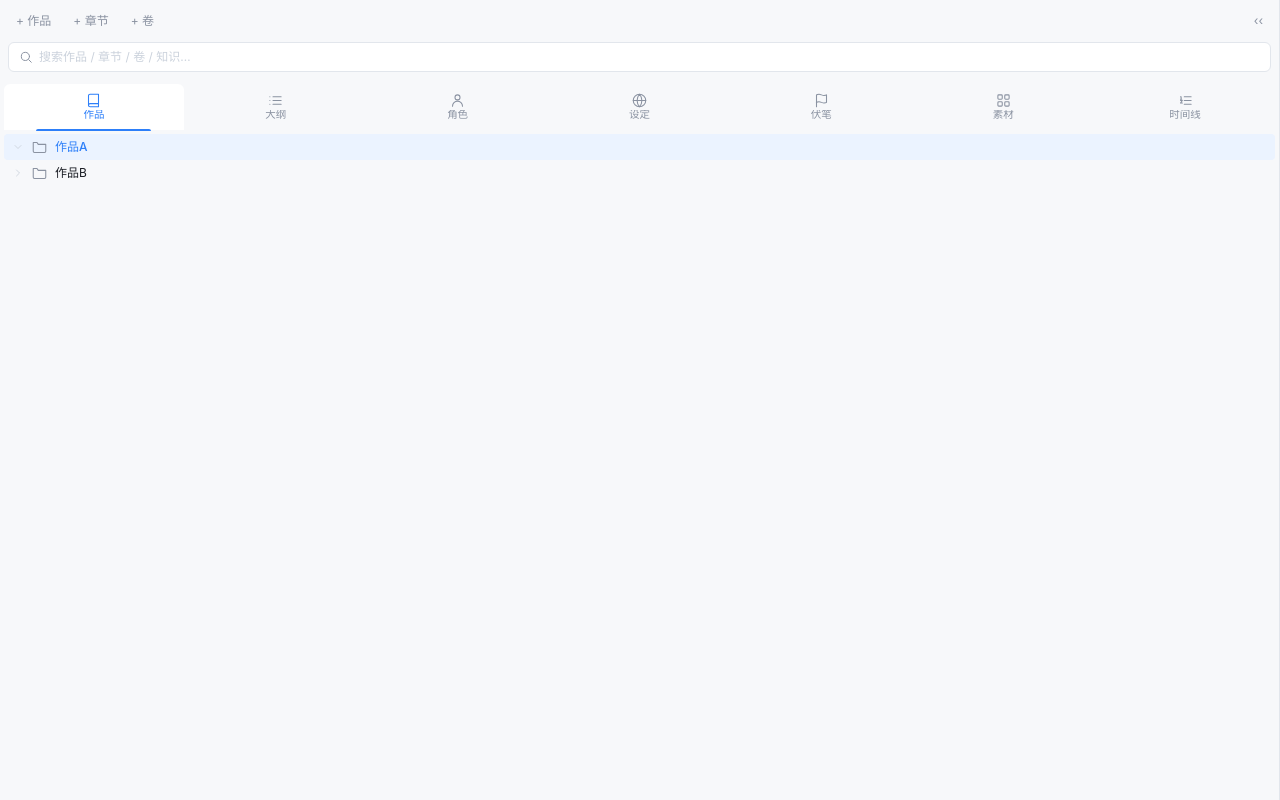
Scenario: 侧栏操作重构：作品节点右键菜单 › 右键作品行 → 弹出「重命名作品 / 删除作品」菜单
The image size is (1280, 800).
Right-click the text "作品B" at (71, 173), box [55,164,87,182]
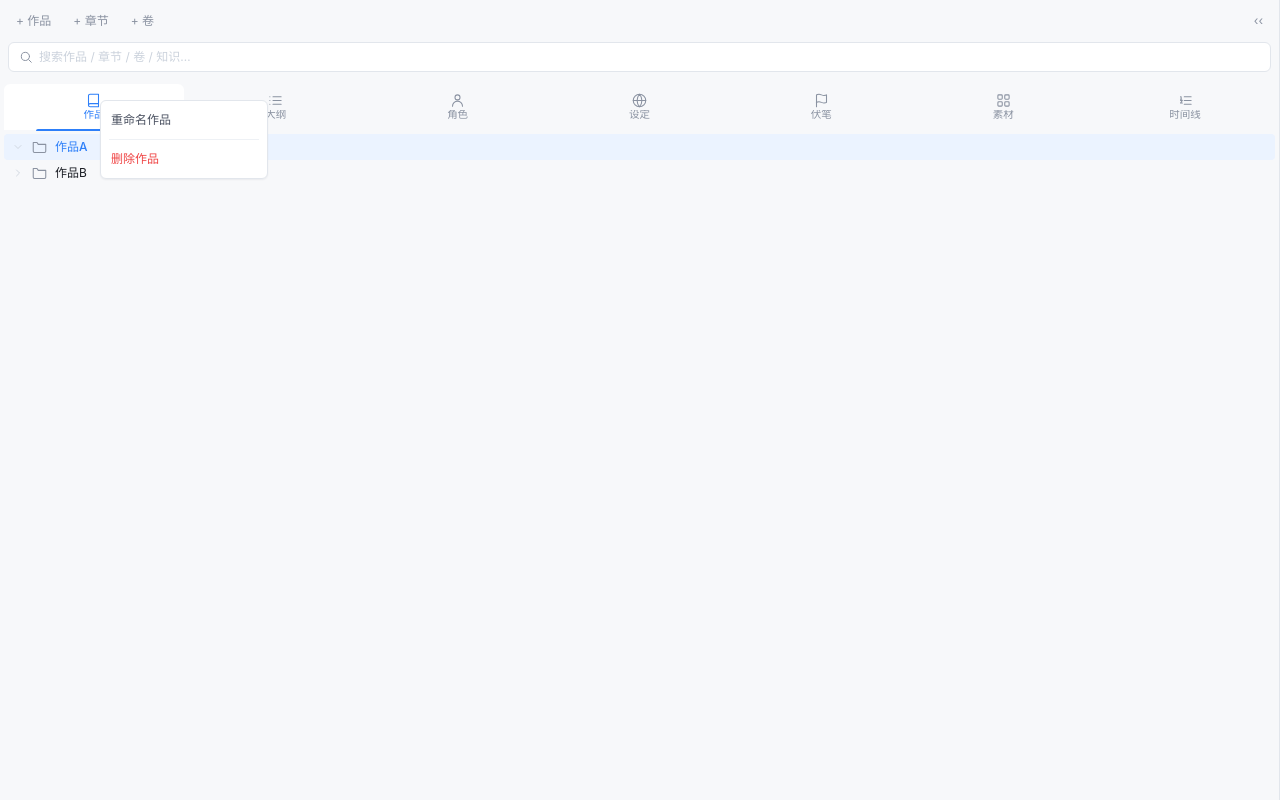
Result: the menu item "重命名作品" is shown at [101,105,267,135]
Result: the menu item "删除作品" is shown at [101,144,267,174]
